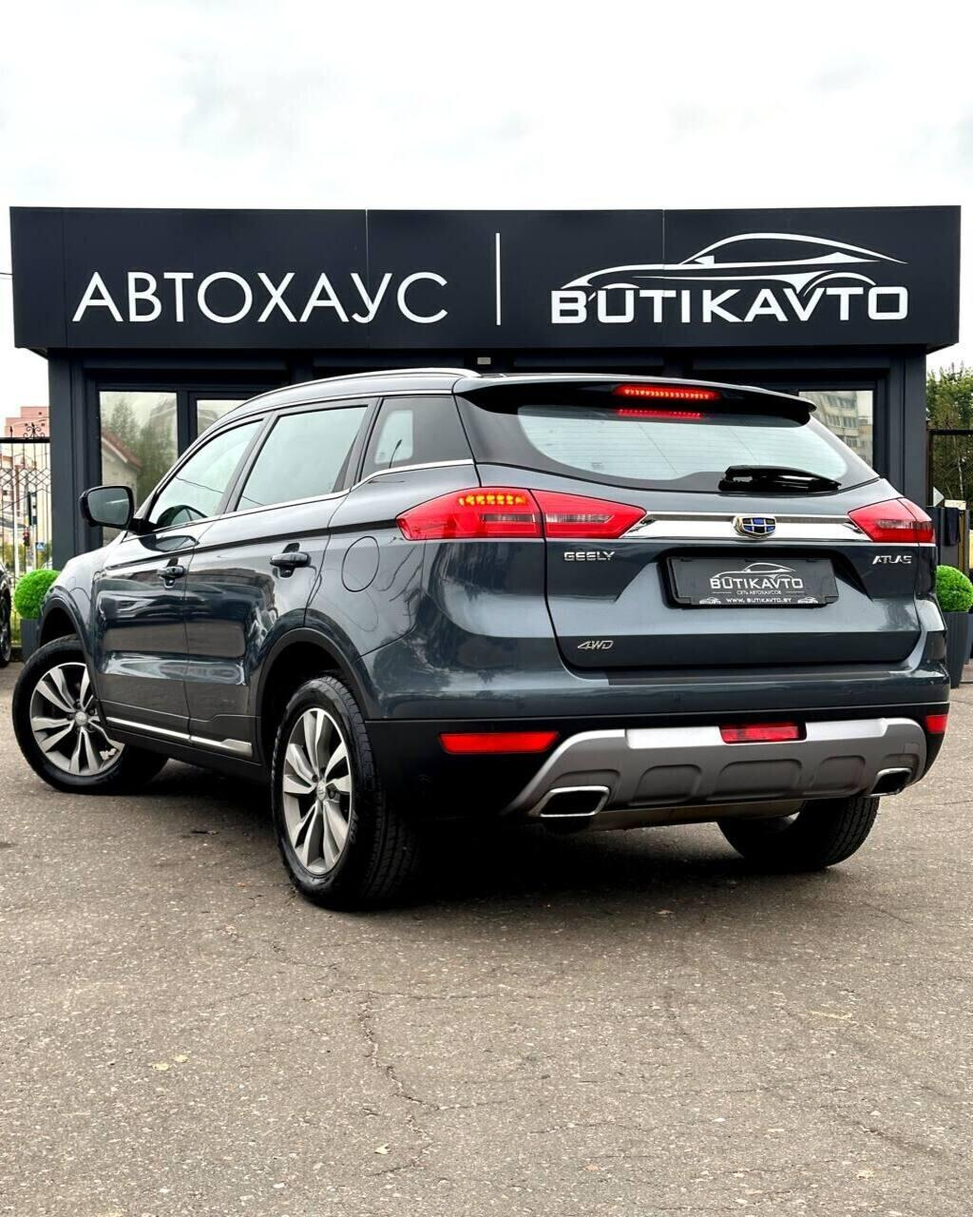Atlas_2016-2023: (10, 364, 955, 900)
